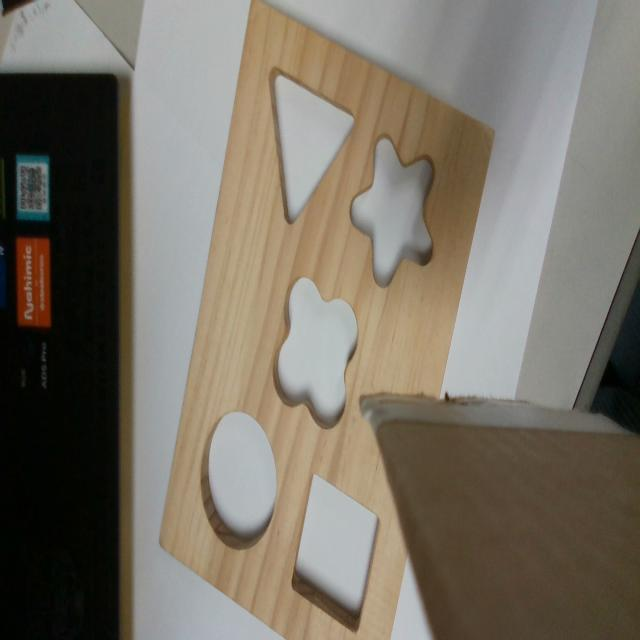circle: (203, 412, 277, 549)
flower: (273, 276, 357, 426)
square: (289, 472, 381, 635)
star: (350, 134, 434, 284)
triangle: (267, 61, 357, 229)
